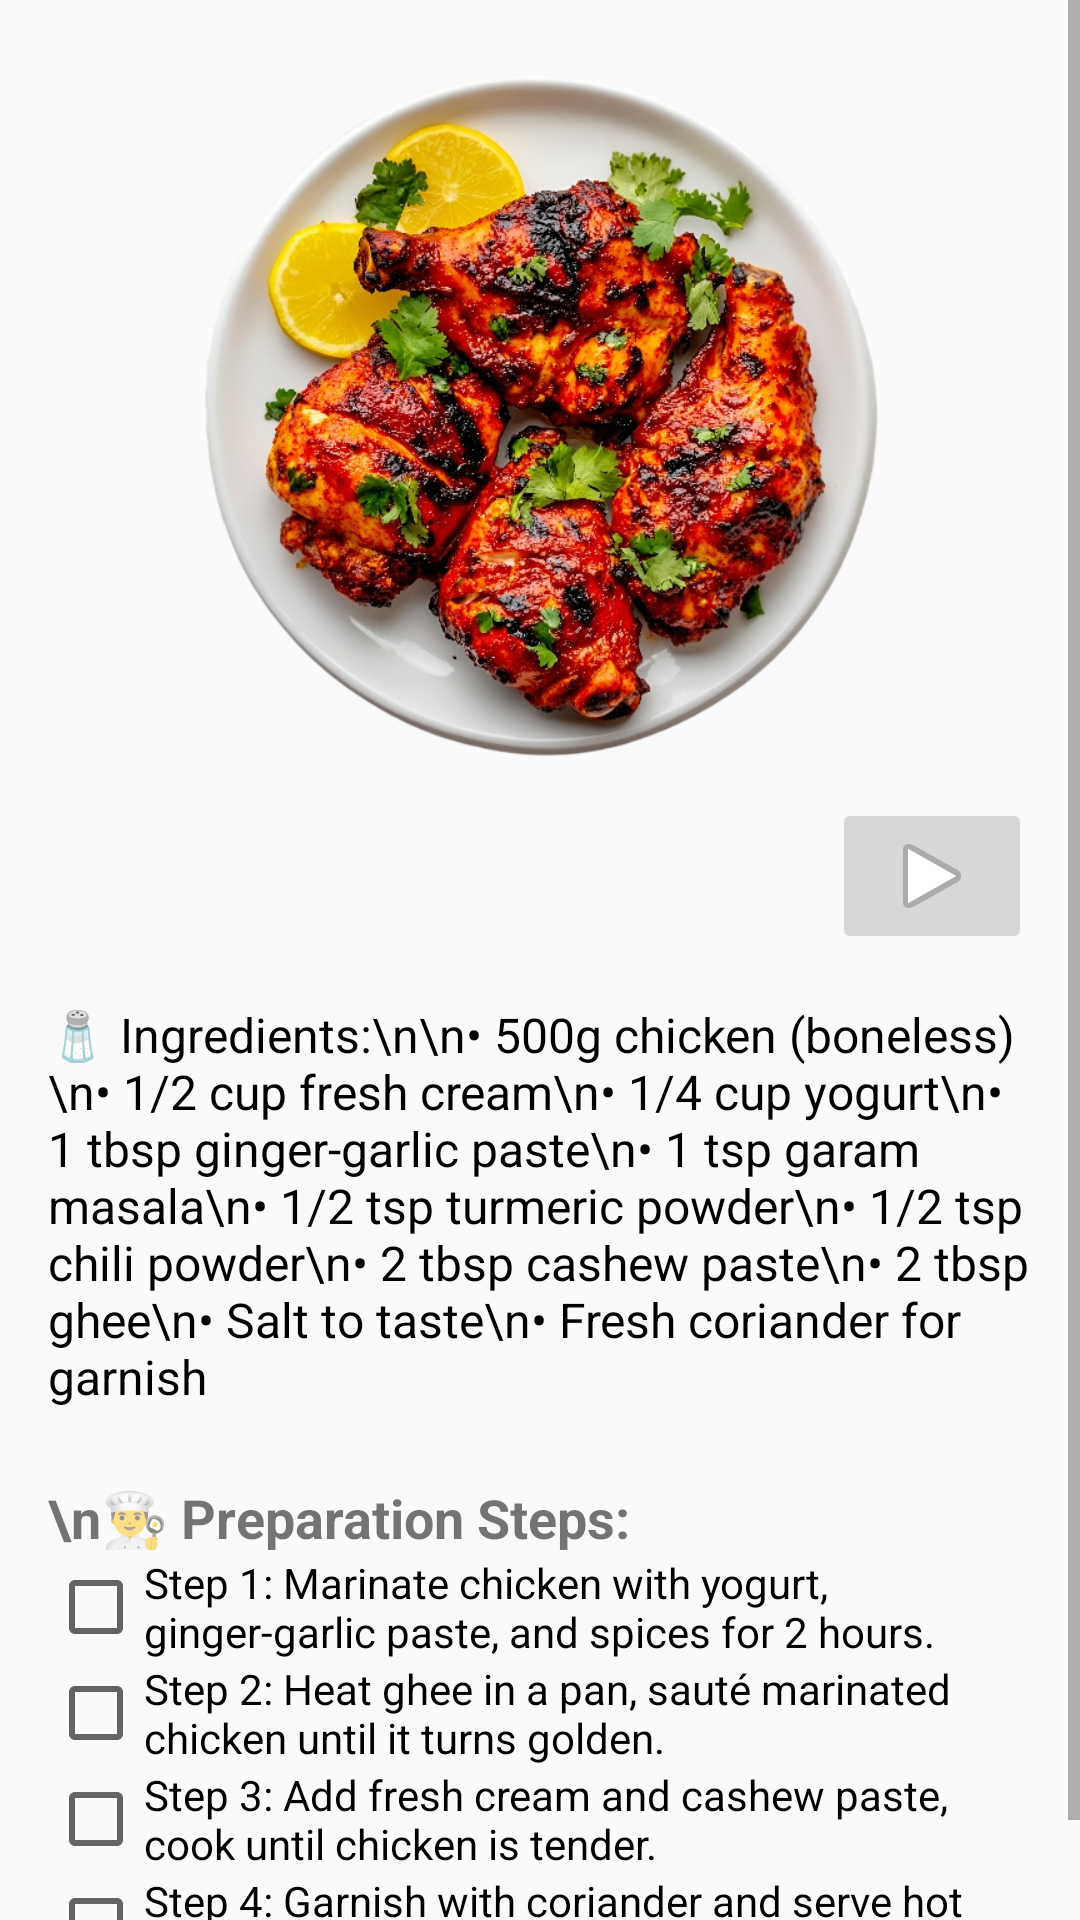

Where icons sit on this 1080 x 1920 app screen, as {"x1": x1, "y1": y1, "x2": x2, "y2": y2}:
play: {"x1": 844, "y1": 816, "x2": 1020, "y2": 936}
